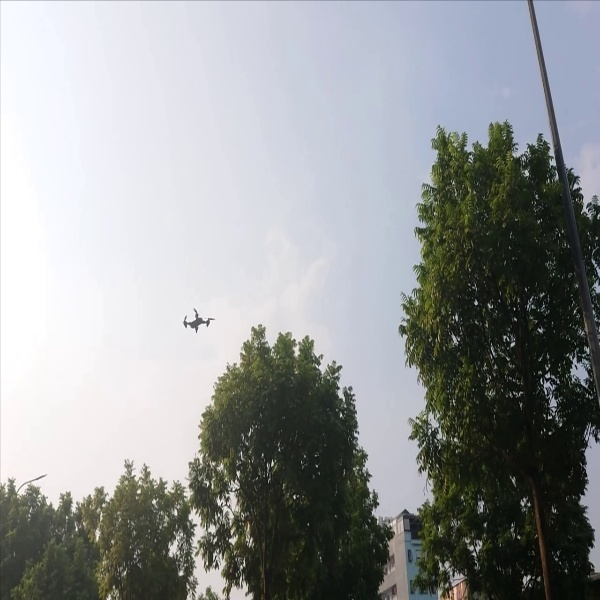drone: (174, 306, 216, 337)
